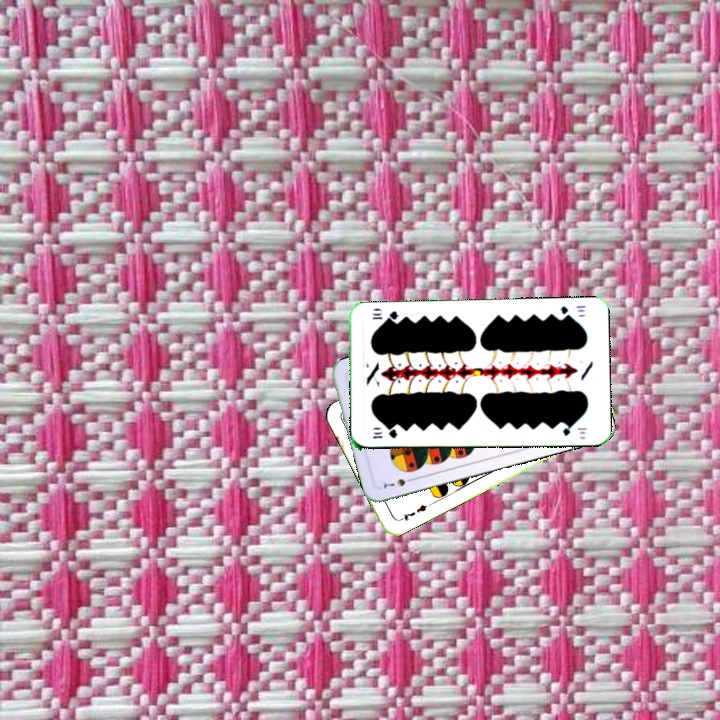E7: (395, 499, 432, 524)
G10: (557, 302, 588, 320), (369, 425, 400, 441)
S7: (379, 474, 417, 491)
